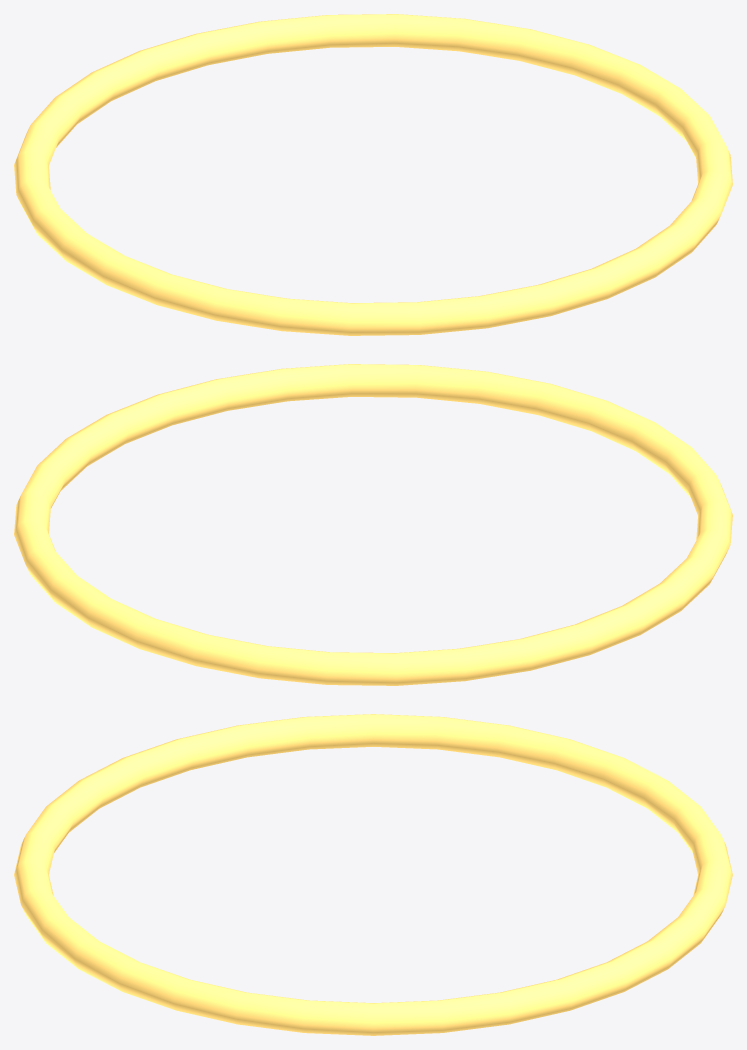
Rendered from Selection.glb.
The picture shows the model from 3 angles, top to bottom: view 1: azimuth 30°, elevation 25°; view 2: azimuth 150°, elevation 25°; view 3: azimuth 270°, elevation 25°; orthographic projection.
Parts seen in each view (by area): view 1: Selection; view 2: Selection; view 3: Selection.
Part boxes in pixels (<box>): Selection: <box>14,14,732,335</box>; Selection: <box>14,364,732,685</box>; Selection: <box>14,714,732,1035</box>.
Bounding box in the file's own units: 1.03 × 0.05 × 1.03.
